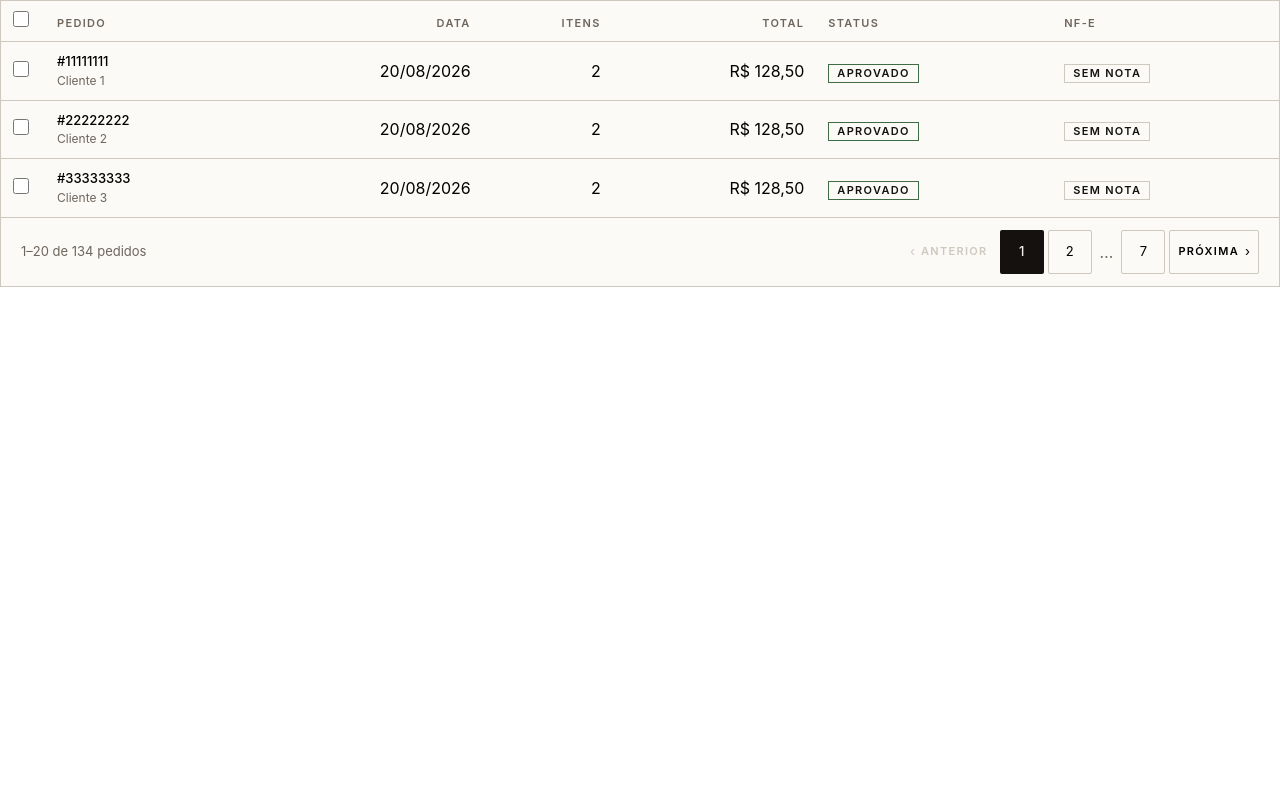
Test case: o painel lateral — R26 › abre pelo clique na linha, sem sair da página
The image size is (1280, 800).
Click the link "#11111111 Cliente 1" at (83,70), box x1=57 y1=53 x2=108 y2=88
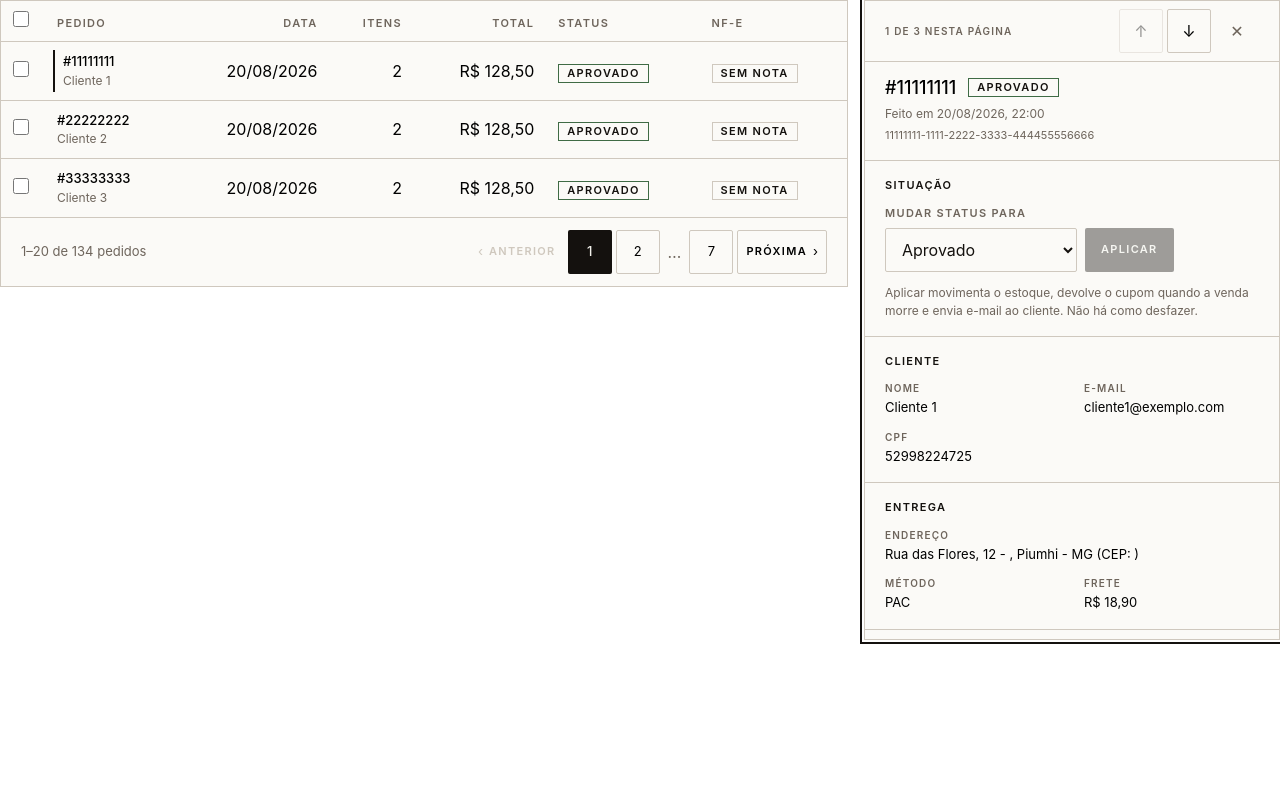
Expected: the element named "Detalhe do pedido" is shown, x1=864 y1=0 x2=1279 y2=640
